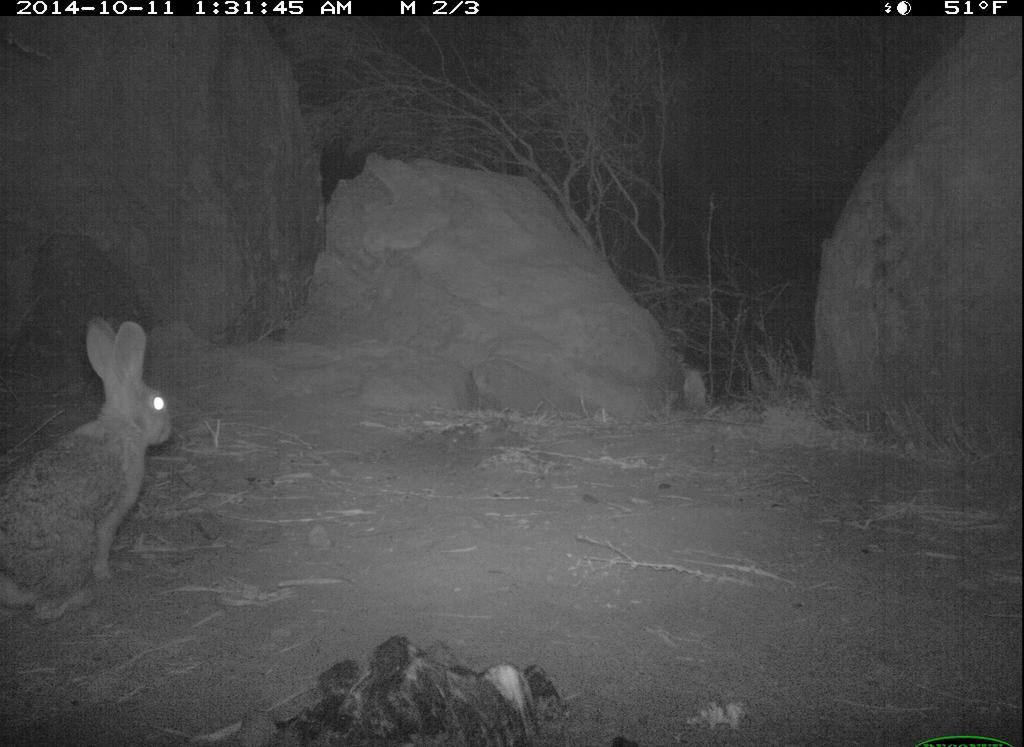rabbit: (2, 303, 193, 623)
